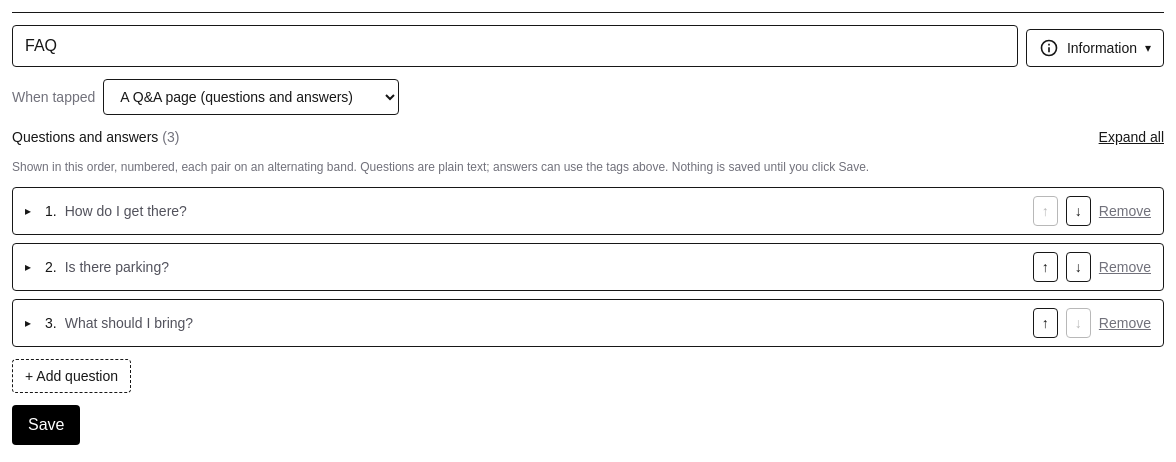
question containers › removes a container
Click the button with aria-label "Remove question 2" at coordinates (1125, 267), box x1=1099 y1=257 x2=1151 y2=277
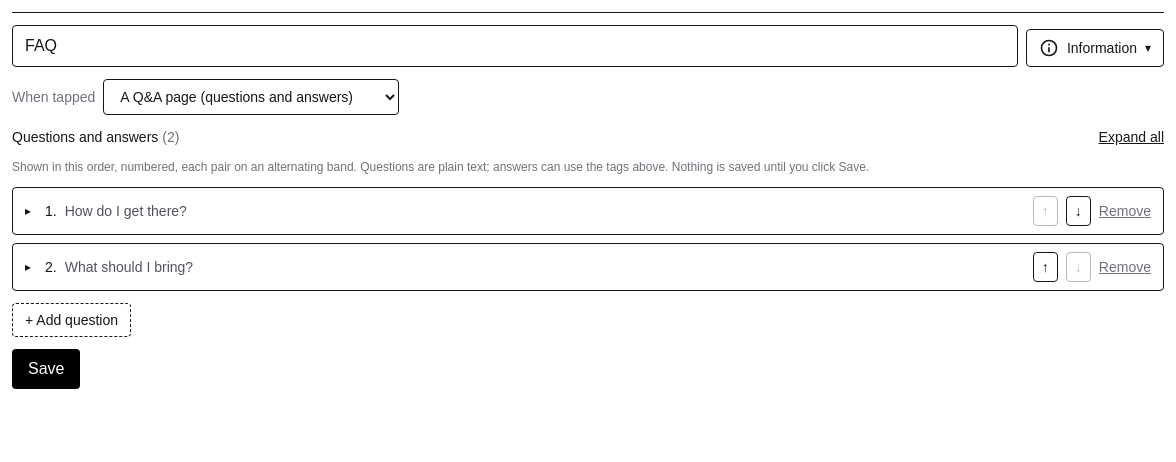
Check: the button "Is there parking?" is gone
Check: the number of list items is 2, box x1=12 y1=187 x2=1164 y2=235; x1=12 y1=243 x2=1164 y2=291
